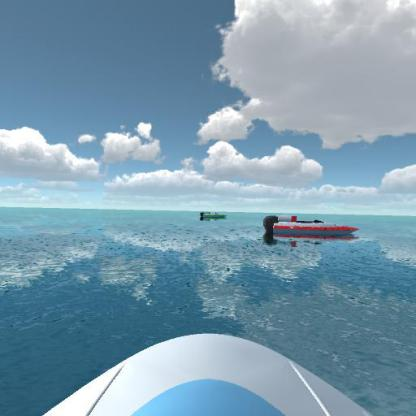usv0: (197, 207, 230, 224)
usv3: (260, 211, 364, 243)
